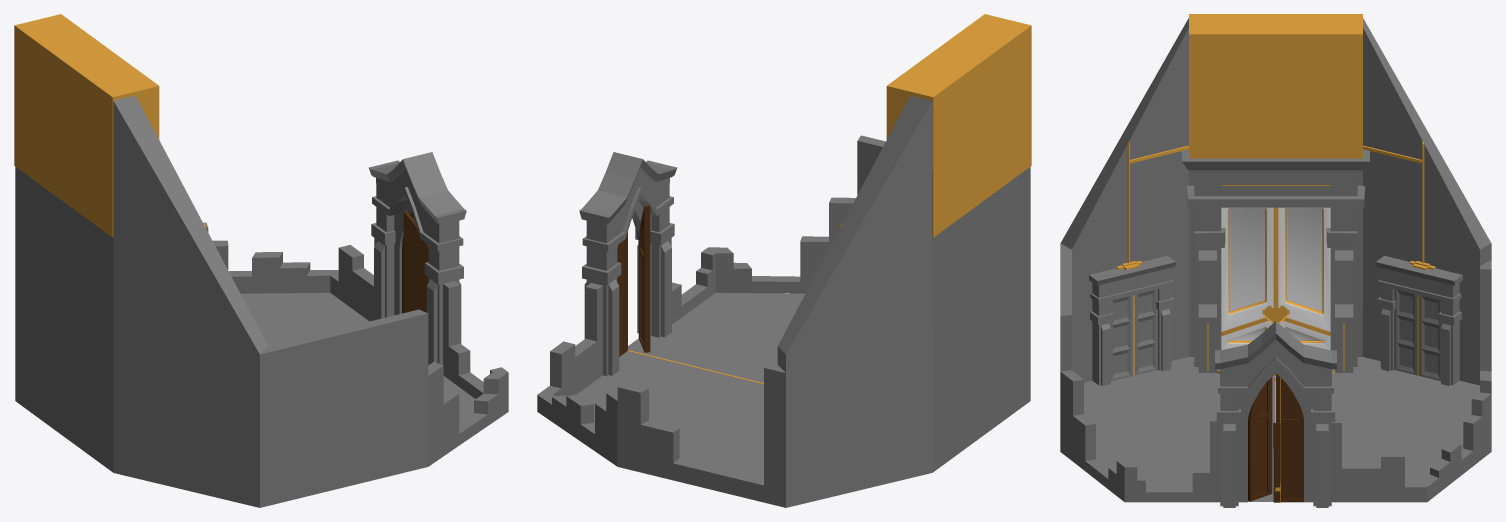
File: CastleHub.fbx
3 renders of one model, left to right at view 1: azimuth 30°, elevation 25°; view 2: azimuth 150°, elevation 25°; view 3: azimuth 270°, elevation 25°, orthographic. The views are drawn at different scales.
Visible parts, largest first — view 1: Cylinder.067, Cube.030, Cube.019, Cylinder.068, Cylinder.030, DoorCastle, Cylinder.069; view 2: Cylinder.067, Cube.030, Cylinder.030, Cube.019, Cylinder.068, DoorCastle, DoorCastleFixe, Cylinder.069; view 3: Cylinder.067, Cube.030, Cube.031, Cube.029, Cube.019, Cylinder.030, Cylinder.068, DoorCastleFixe, Cylinder.069, DoorCastle, zqdad.
Boxes of the visible parts, left/top/right/bottom form: Cylinder.067: left=15, top=95, right=475, bottom=507; Cube.030: left=14, top=14, right=159, bottom=237; Cube.019: left=369, top=152, right=466, bottom=365; Cylinder.068: left=428, top=281, right=508, bottom=466; Cylinder.030: left=203, top=222, right=376, bottom=321; DoorCastle: left=403, top=209, right=428, bottom=312; Cylinder.069: left=394, top=201, right=428, bottom=315; Cylinder.067: left=577, top=95, right=1030, bottom=507; Cube.030: left=886, top=14, right=1031, bottom=237; Cylinder.030: left=537, top=282, right=785, bottom=507; Cube.019: left=579, top=152, right=676, bottom=376; Cylinder.068: left=669, top=197, right=855, bottom=324; DoorCastle: left=639, top=206, right=650, bottom=352; DoorCastleFixe: left=617, top=232, right=627, bottom=356; Cylinder.069: left=617, top=201, right=651, bottom=337; Cylinder.067: left=1060, top=18, right=1491, bottom=501; Cube.030: left=1182, top=14, right=1369, bottom=372; Cube.031: left=1089, top=141, right=1462, bottom=385; Cube.029: left=1221, top=207, right=1330, bottom=349; Cube.019: left=1215, top=321, right=1336, bottom=507; Cylinder.030: left=1331, top=260, right=1491, bottom=502; Cylinder.068: left=1060, top=370, right=1220, bottom=502; DoorCastleFixe: left=1273, top=373, right=1303, bottom=502; Cylinder.069: left=1238, top=364, right=1313, bottom=502; DoorCastle: left=1248, top=377, right=1272, bottom=501; zqdad: left=1221, top=207, right=1330, bottom=336.
Bounding box in the file's own units: 12.42 × 12.23 × 14.19.
